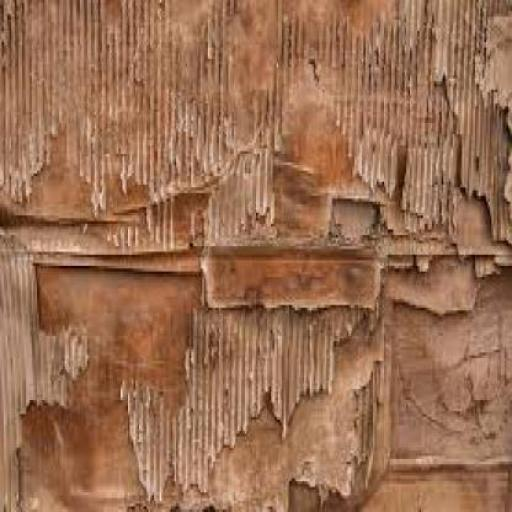cardboard: (0, 0, 511, 510), (0, 242, 511, 510), (0, 0, 511, 247)
